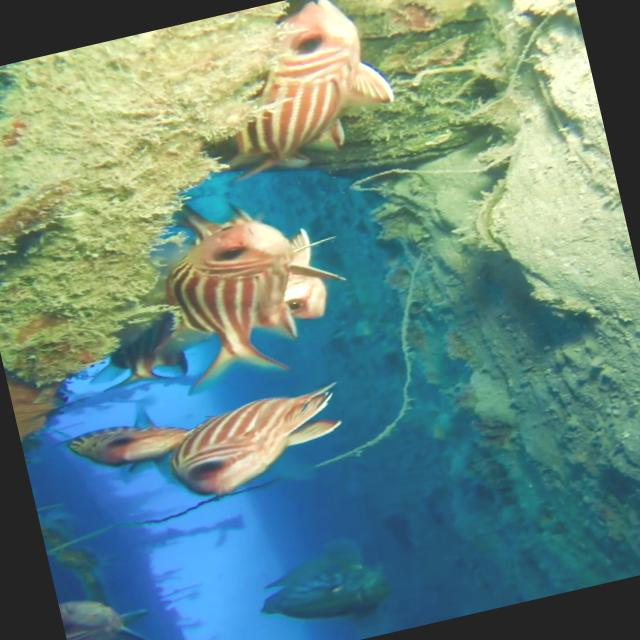Asker Baligi: (140, 172, 364, 397), (58, 370, 357, 530), (190, 0, 406, 185)
